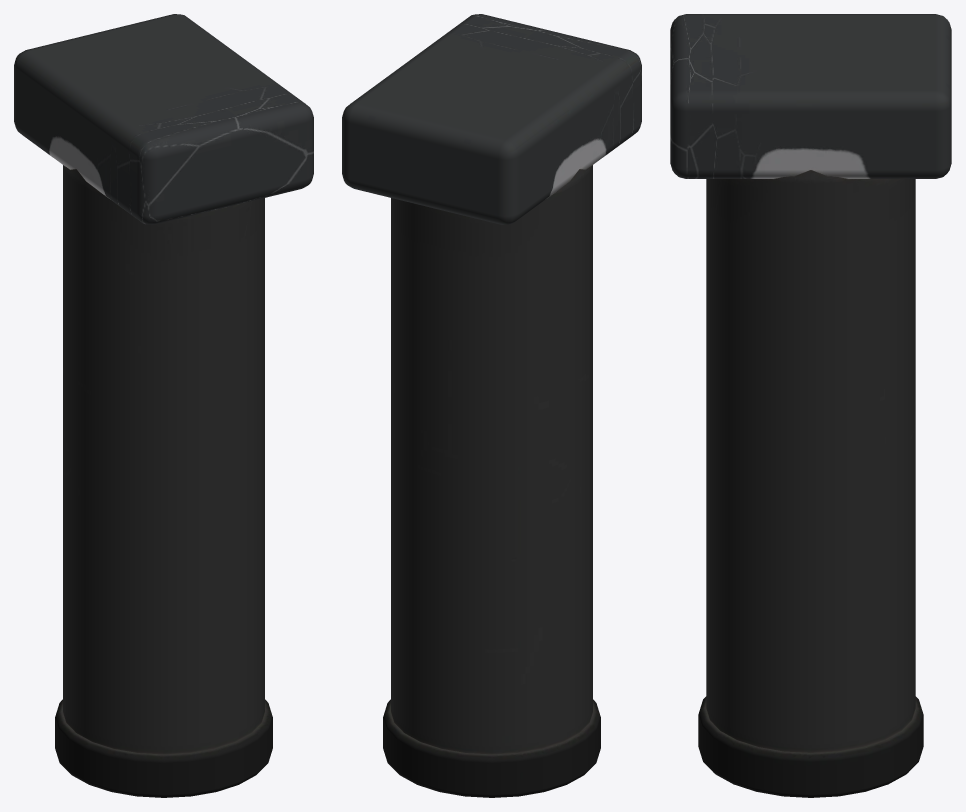
Rendered from grip.gltf.
The picture shows the model from 3 angles, left to right: view 1: azimuth 30°, elevation 25°; view 2: azimuth 150°, elevation 25°; view 3: azimuth 270°, elevation 25°; orthographic projection. The views are drawn at different scales.
Visible parts, largest first — view 1: Frame; view 2: Frame; view 3: Frame.
Boxes of the visible parts, x1,y1,x2,y2 form: Frame: [14, 14, 313, 797]; Frame: [342, 14, 641, 797]; Frame: [670, 14, 951, 797].
Size of the model in its own units: 0.028 by 0.096 by 0.035.
Materials: 3 (3 with a texture image).
